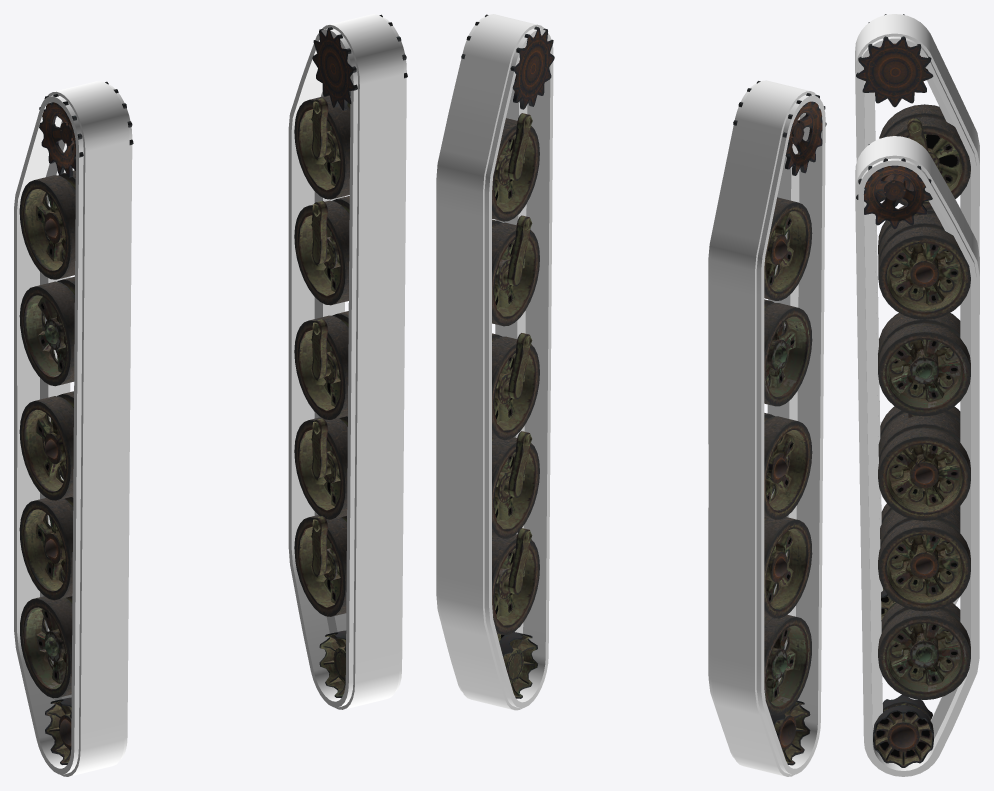
Rendered from Chassis_03.glb.
3 views of the same model, side by side, from view 1: azimuth 30°, elevation 25°; view 2: azimuth 150°, elevation 25°; view 3: azimuth 270°, elevation 25° (orthographic). The views are drawn at different scales.
Visible parts, largest first — view 1: set_0_group_0, set_1_group_0, set_3_group_0, set_2_group_0; view 2: set_0_group_0, set_1_group_0, set_3_group_0, set_2_group_0; view 3: set_3_group_0, set_1_group_0, set_2_group_0, set_0_group_0.
Boxes of the visible parts, bbox=[...] form: set_0_group_0: bbox=[14, 81, 132, 776]; set_1_group_0: bbox=[288, 14, 406, 709]; set_3_group_0: bbox=[294, 14, 407, 697]; set_2_group_0: bbox=[19, 81, 133, 764]; set_0_group_0: bbox=[708, 80, 825, 776]; set_1_group_0: bbox=[436, 14, 553, 710]; set_3_group_0: bbox=[461, 14, 554, 698]; set_2_group_0: bbox=[733, 81, 826, 765]; set_3_group_0: bbox=[856, 136, 970, 767]; set_1_group_0: bbox=[855, 136, 979, 776]; set_2_group_0: bbox=[856, 14, 970, 620]; set_0_group_0: bbox=[855, 14, 979, 604].
Size of the model in its own units: 3.08 by 6.13 by 1.11.
4 materials, 2 textured.
